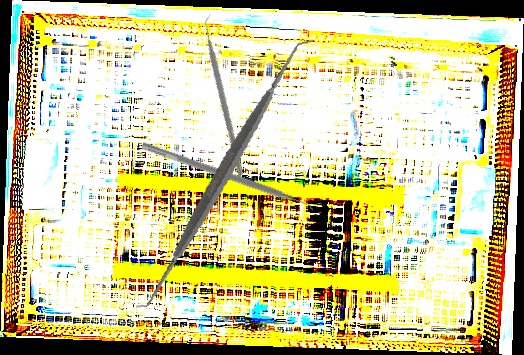Chopper: (143, 9, 311, 178)
Spatula Surgical: (95, 38, 354, 309), (138, 141, 317, 217)
